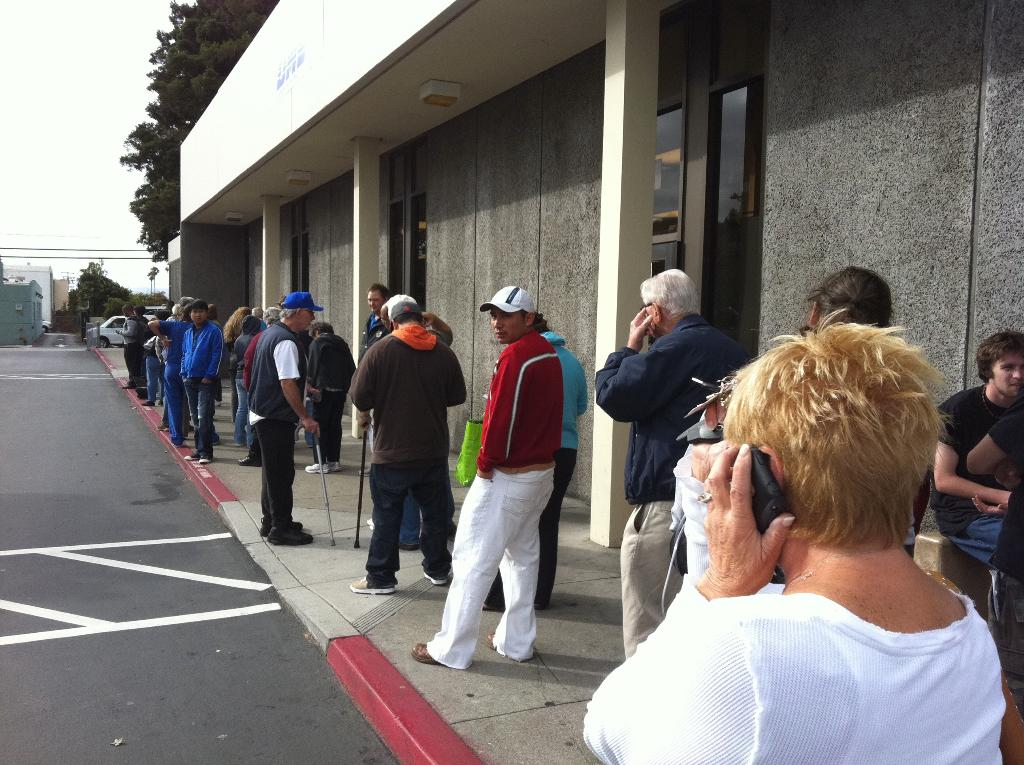Car: (84, 315, 163, 350)
